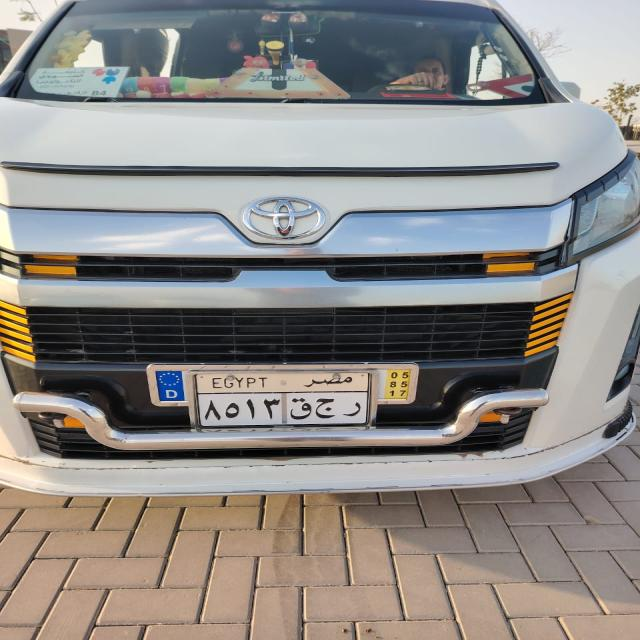car-plate: (187, 372, 367, 428)
